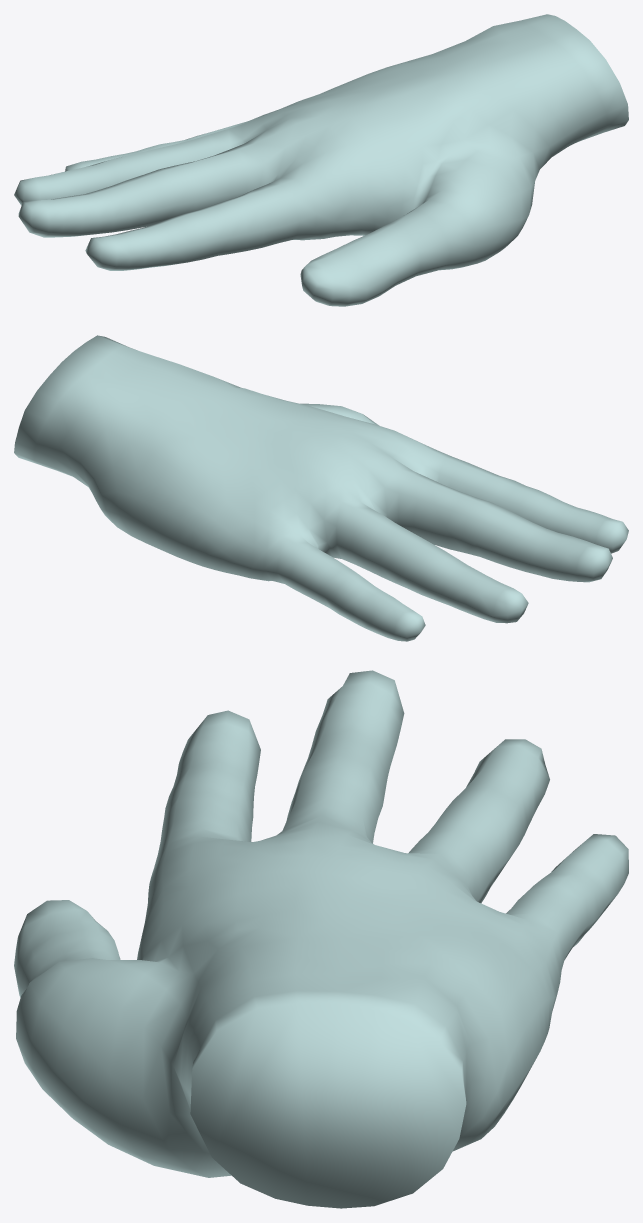
The model's file is PressWithPlam.fbx.
3 views of the same model, one above another, from view 1: azimuth 30°, elevation 25°; view 2: azimuth 150°, elevation 25°; view 3: azimuth 270°, elevation 25° (orthographic). The views are drawn at different scales.
Visible parts, largest first — view 1: r_handMeshNode_geometry; view 2: r_handMeshNode_geometry; view 3: r_handMeshNode_geometry.
Part boxes in pixels (<box>): r_handMeshNode_geometry: <box>14,14,628,306</box>; r_handMeshNode_geometry: <box>14,335,628,641</box>; r_handMeshNode_geometry: <box>14,670,628,1208</box>.
Bounding box in the file's own units: 2120 × 571 × 1171.
